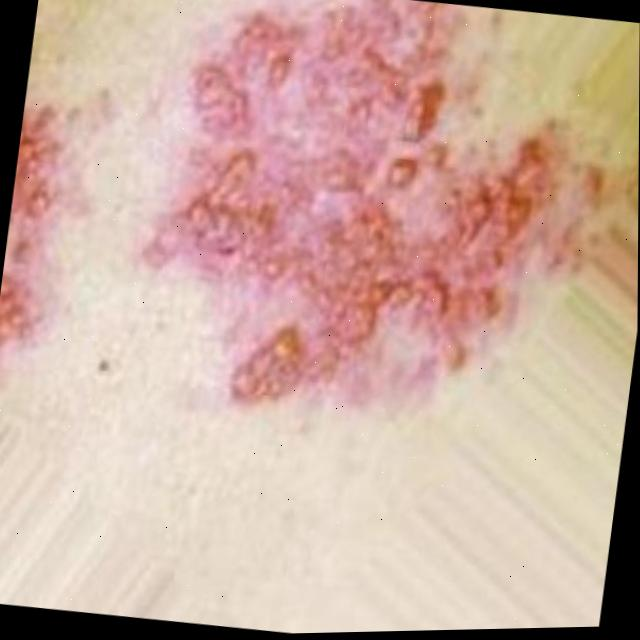Shingles: (116, 0, 633, 469), (0, 93, 69, 377)
